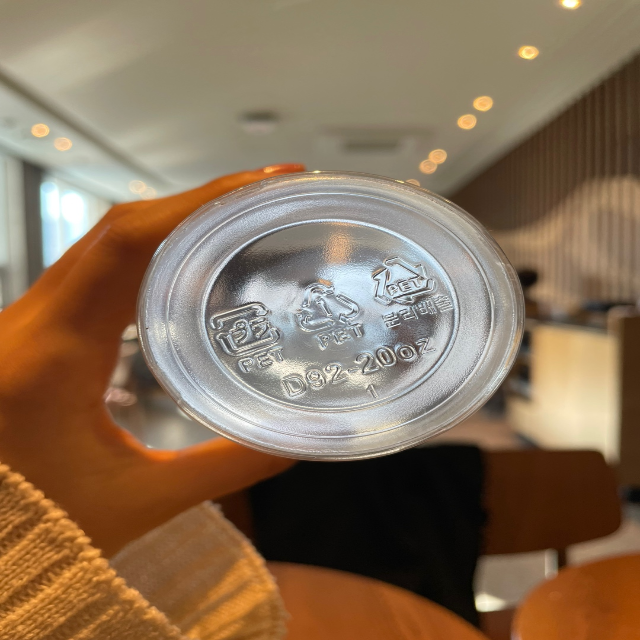pet: (369, 250, 459, 325), (202, 300, 289, 374), (287, 276, 368, 347)
